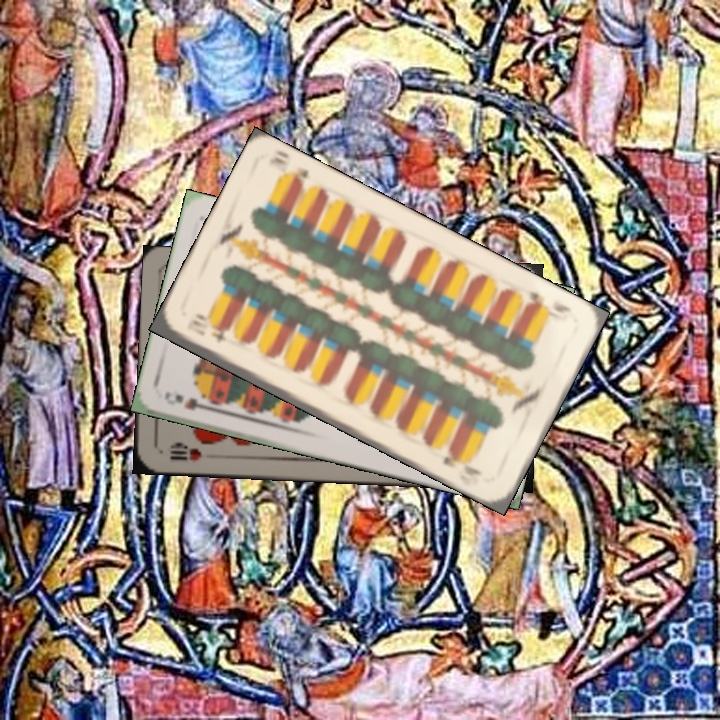E10: (522, 287, 574, 321), (183, 315, 230, 345)
H10: (166, 440, 204, 463)
S9: (160, 387, 219, 414)
